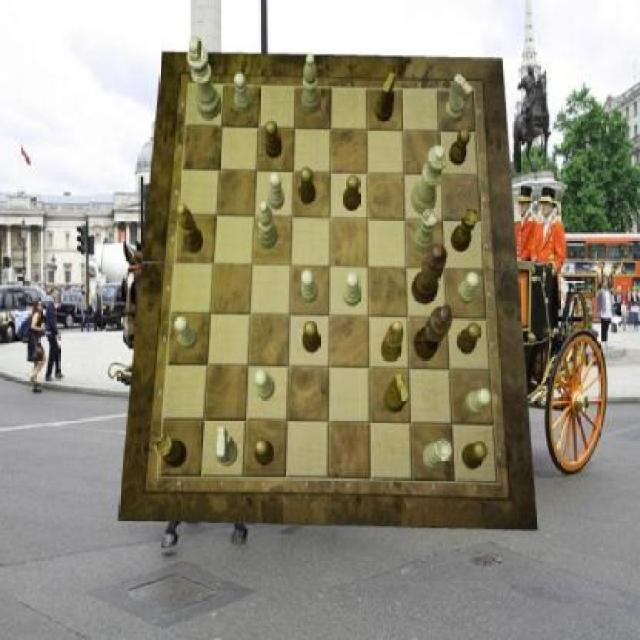bishop: (177, 203, 203, 254), (382, 322, 404, 363)
black-bishop: (412, 304, 452, 360)
black-king: (385, 372, 409, 414), (376, 72, 396, 121)
black-knight: (457, 323, 481, 355), (451, 128, 471, 166), (463, 443, 488, 471), (343, 176, 361, 212), (266, 120, 283, 158), (303, 320, 321, 354), (300, 168, 317, 204), (254, 439, 274, 466)
black-pawn: (412, 244, 448, 304)
black-queen: (451, 208, 478, 253), (157, 436, 188, 470)
black-rook: (302, 54, 321, 114), (258, 200, 278, 249)
white-bishop: (188, 36, 222, 120)
white-king: (446, 74, 474, 123), (216, 428, 238, 468)
white-knight: (174, 315, 198, 350), (457, 272, 479, 305), (234, 74, 251, 114), (466, 390, 492, 416), (343, 272, 361, 307), (256, 369, 276, 400), (268, 171, 284, 209), (302, 269, 319, 303)
white-pawn: (410, 144, 448, 216)
white-queen: (414, 209, 438, 253), (423, 440, 452, 472)
